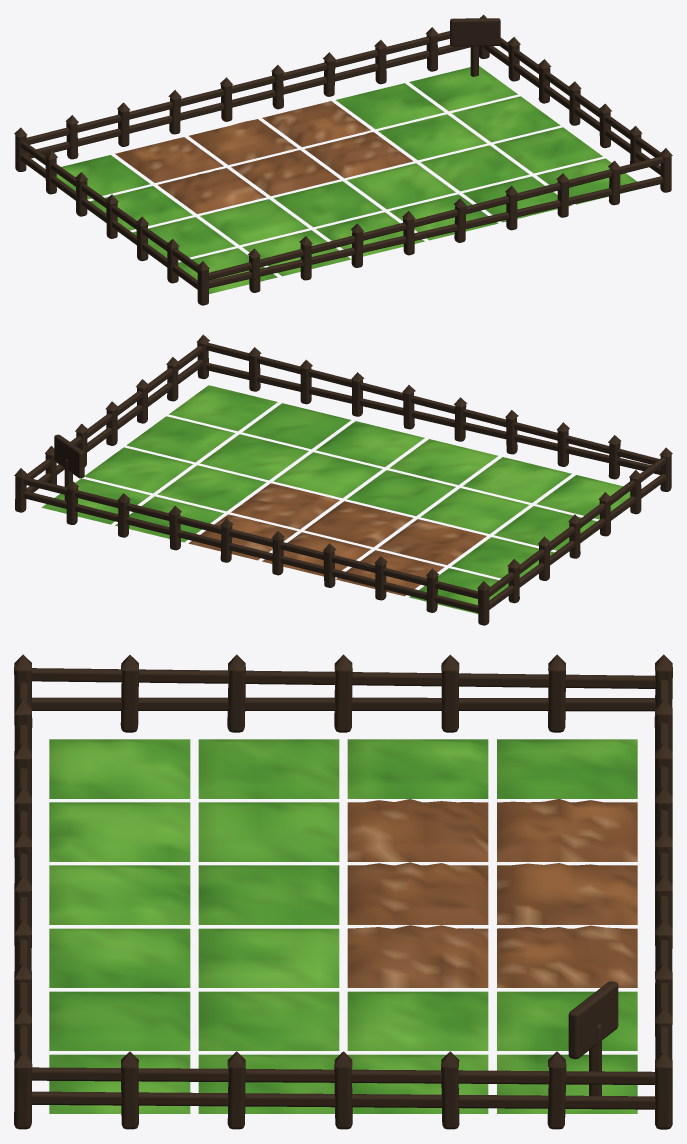
Rendered from painted-field.glb.
3 views of the same model, one above another, from view 1: azimuth 30°, elevation 25°; view 2: azimuth 150°, elevation 25°; view 3: azimuth 270°, elevation 25° (orthographic). The views are drawn at different scales.
Visible parts, largest first — view 1: painted-field-kit, painted-field-outline; view 2: painted-field-kit, painted-field-outline; view 3: painted-field-kit, painted-field-outline.
Part boxes in pixels (x1,y1,x2,y2): painted-field-kit: [56, 66, 636, 293]; painted-field-outline: [14, 14, 672, 305]; painted-field-kit: [42, 385, 630, 613]; painted-field-outline: [14, 334, 672, 625]; painted-field-kit: [49, 739, 637, 1113]; painted-field-outline: [14, 654, 672, 1129].
Bounding box in the file's own units: 9.12 × 1.12 × 6.27.
